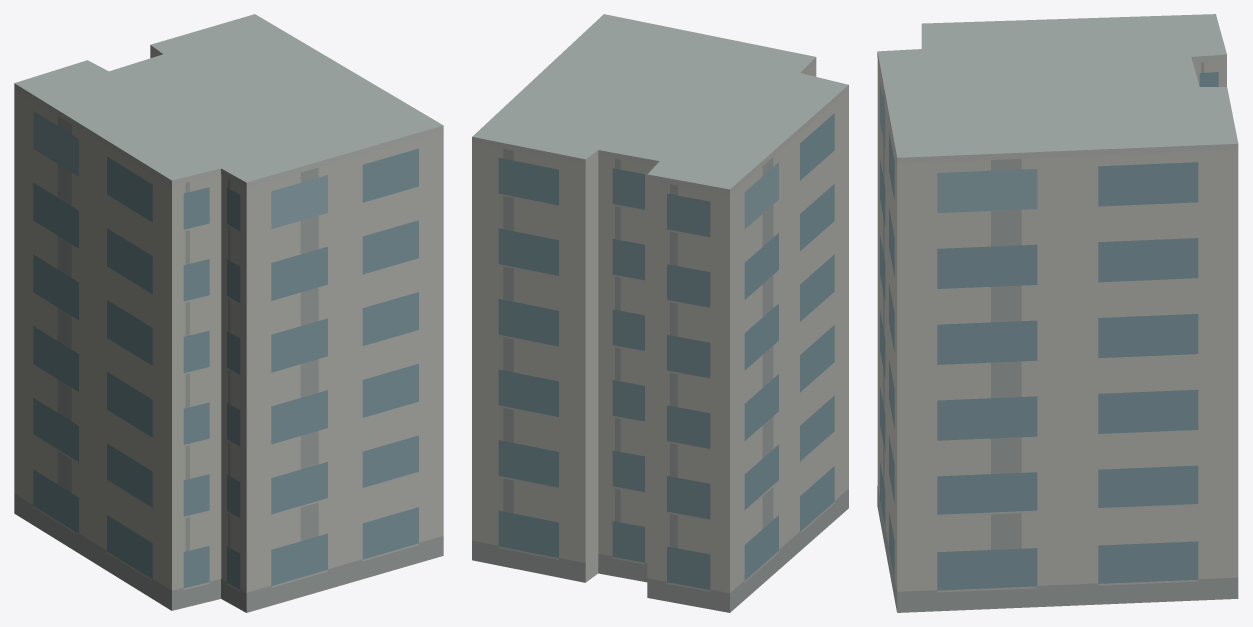
Rendered from survey-upis-32746547.glb.
3 views of the same model, side by side, from view 1: azimuth 30°, elevation 25°; view 2: azimuth 150°, elevation 25°; view 3: azimuth 270°, elevation 25° (orthographic). The views are drawn at different scales.
Visible parts, largest first — view 1: survey-upis-32746547.tmp; view 2: survey-upis-32746547.tmp; view 3: survey-upis-32746547.tmp.
Part boxes in pixels (x1,y1,x2,y2): survey-upis-32746547.tmp: (14,14,443,612); survey-upis-32746547.tmp: (472,14,848,612); survey-upis-32746547.tmp: (877,14,1238,612).
Size of the model in its own units: 12.41 by 18.3 by 13.16.
